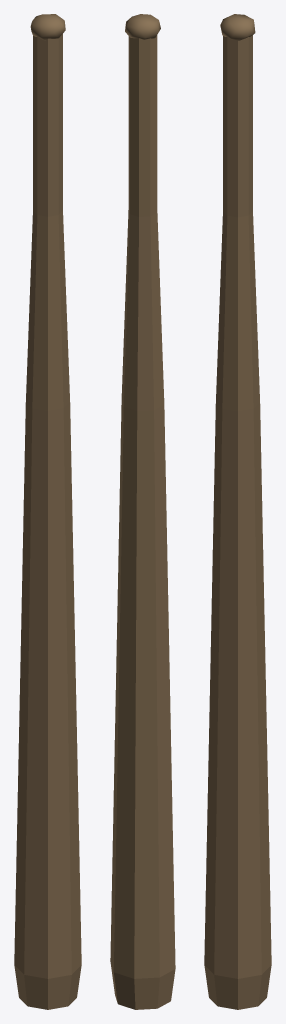
File: Bat_Low01.fbx
The picture shows the model from 3 angles, left to right: view 1: azimuth 90°, elevation 25°; view 2: azimuth 210°, elevation 25°; view 3: azimuth 270°, elevation 25°; orthographic projection.
Parts seen in each view (by area): view 1: Bat_Low01; view 2: Bat_Low01; view 3: Bat_Low01.
Boxes of the visible parts, bbox=[...] form: Bat_Low01: bbox=[14, 14, 81, 1009]; Bat_Low01: bbox=[110, 14, 175, 1009]; Bat_Low01: bbox=[204, 14, 271, 1009].
Size of the model in its own units: 11.25 by 182 by 11.25.
